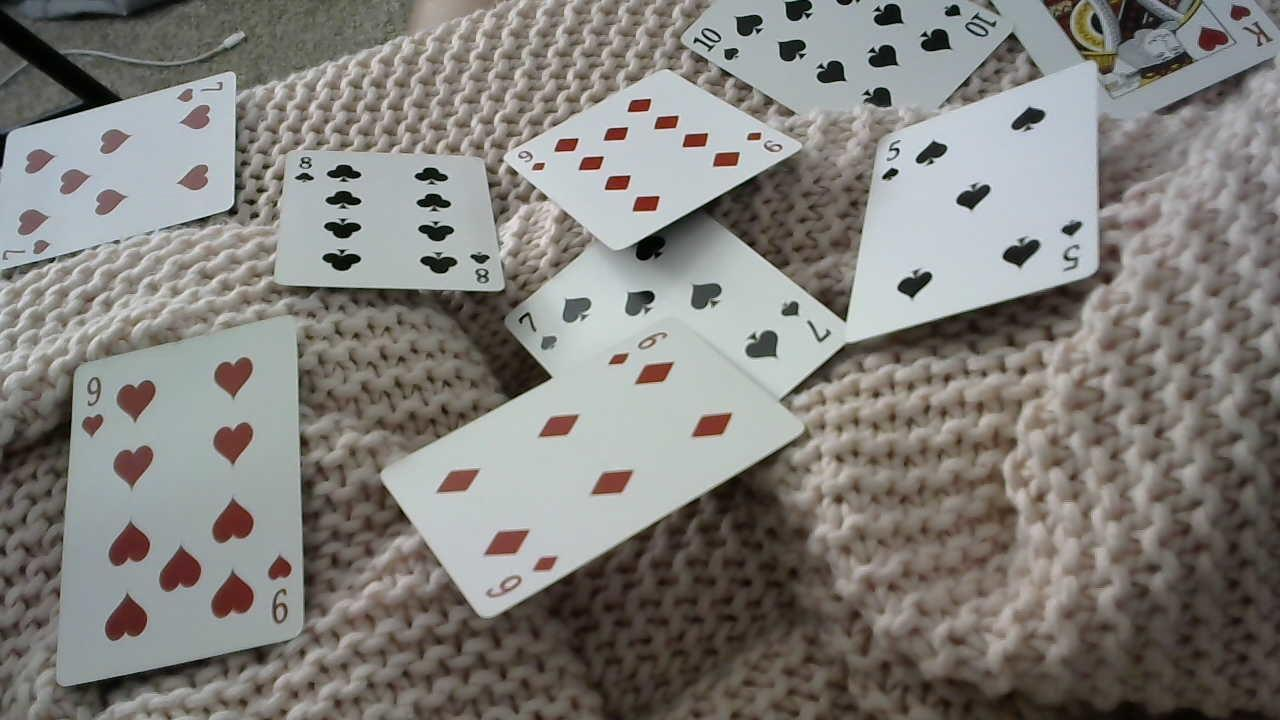10S: (940, 0, 1002, 44), (689, 25, 743, 64)
5S: (1055, 212, 1084, 275), (877, 132, 904, 182)
6D: (480, 551, 560, 606), (603, 326, 671, 369)
7H: (175, 75, 229, 107), (0, 230, 54, 262)
7S: (773, 296, 835, 342), (514, 310, 561, 355)
8C: (465, 246, 495, 285), (292, 152, 320, 186)
9D: (741, 127, 788, 160), (512, 146, 551, 172)
9H: (262, 551, 296, 631), (77, 373, 105, 442)
KH: (1220, 0, 1277, 52)
